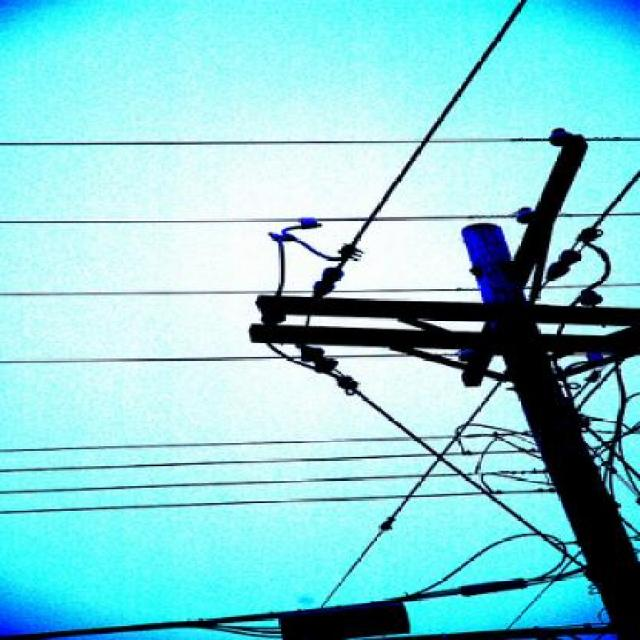pole: (266, 152, 640, 640)
